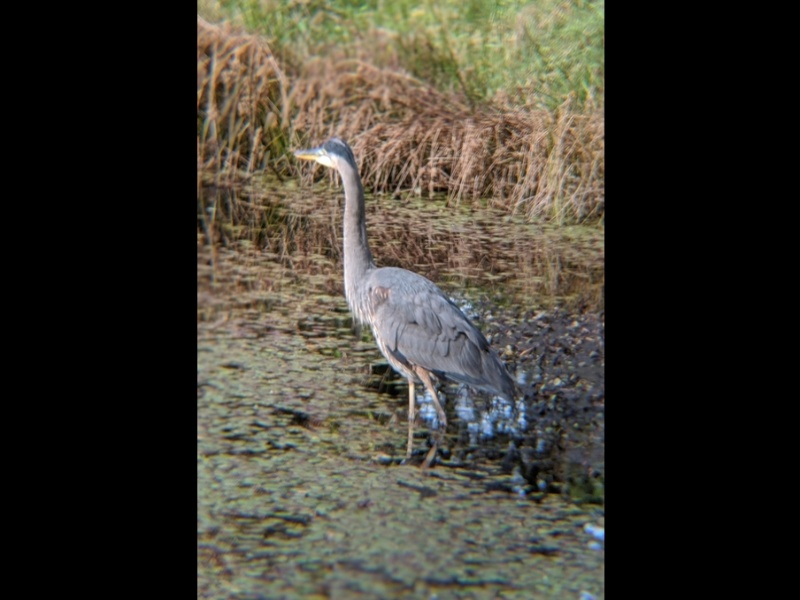heron: (292, 138, 521, 457)
